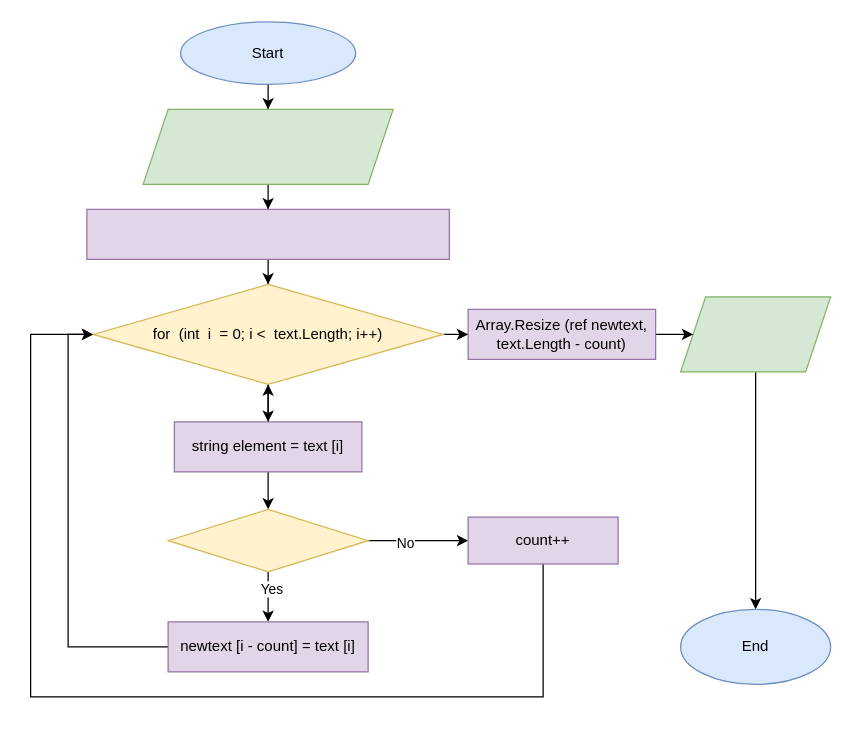
Some shapes in this 853 by 729 pixel diagram are drawn without their labels. Each missing label, with the box of its shape:
element.Length <= 3?: (167, 508, 368, 572)
return newtext: (679, 296, 831, 372)
string [ ] newtext = new string [text.Length ] int count = 0: (86, 208, 449, 259)
string [ ] text: (142, 108, 393, 184)
